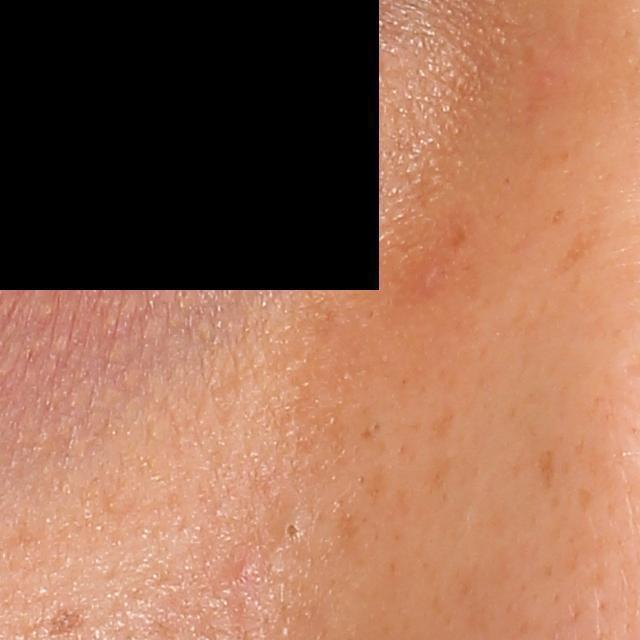comedo: (284, 517, 305, 543)
melasma: (543, 222, 608, 283), (533, 445, 560, 496), (450, 215, 476, 251)
